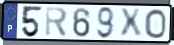5: (20, 4, 44, 38)
6: (72, 7, 92, 38)
9: (96, 6, 117, 40)
O: (144, 8, 167, 40)
R: (45, 6, 69, 38)
X: (119, 7, 143, 39)
